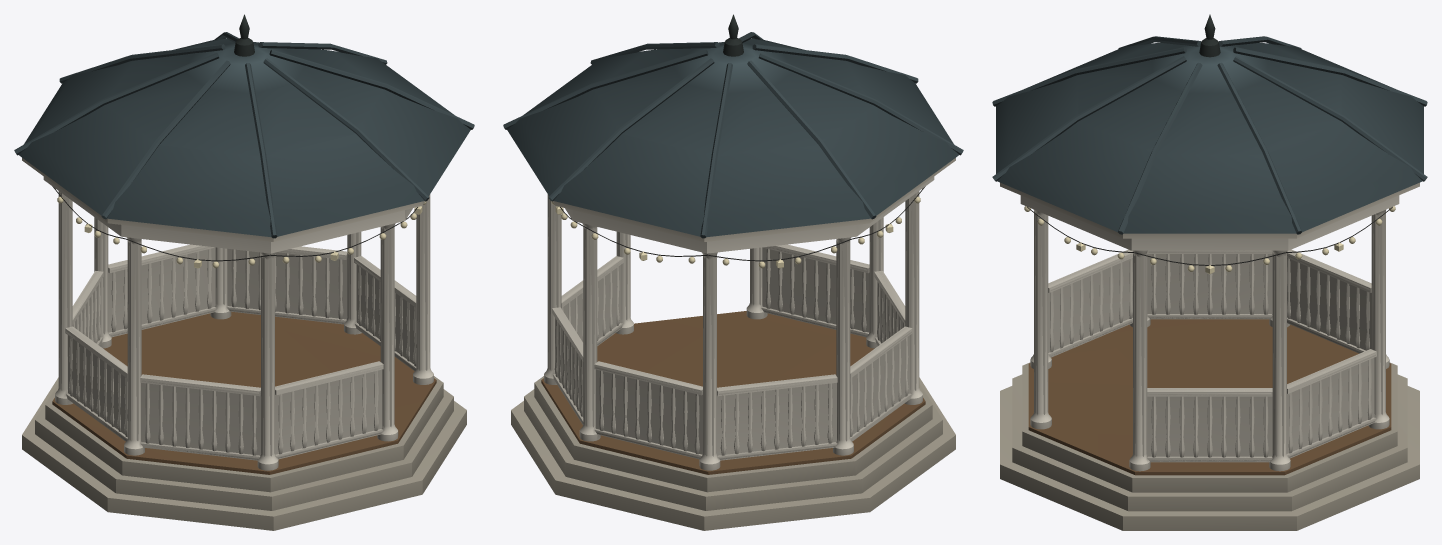
Rendered from quiosco.glb.
3 views of the same model, side by side, from view 1: azimuth 30°, elevation 25°; view 2: azimuth 150°, elevation 25°; view 3: azimuth 270°, elevation 25° (orthographic).
Visible parts, largest first — view 1: hd, lo, hd_bulb; view 2: hd, lo, hd_bulb; view 3: hd, lo, hd_bulb.
Part boxes in pixels (<box>): hd: <box>14,14,474,530</box>; lo: <box>58,191,430,460</box>; hd_bulb: <box>55,188,426,268</box>; hd: <box>503,14,963,530</box>; lo: <box>547,191,919,460</box>; hd_bulb: <box>551,188,922,268</box>; hd: <box>992,14,1427,530</box>; lo: <box>1034,211,1385,462</box>; hd_bulb: <box>1024,206,1395,271</box>.
Bounding box in the file's own units: 4.88 × 5.3 × 4.88.
